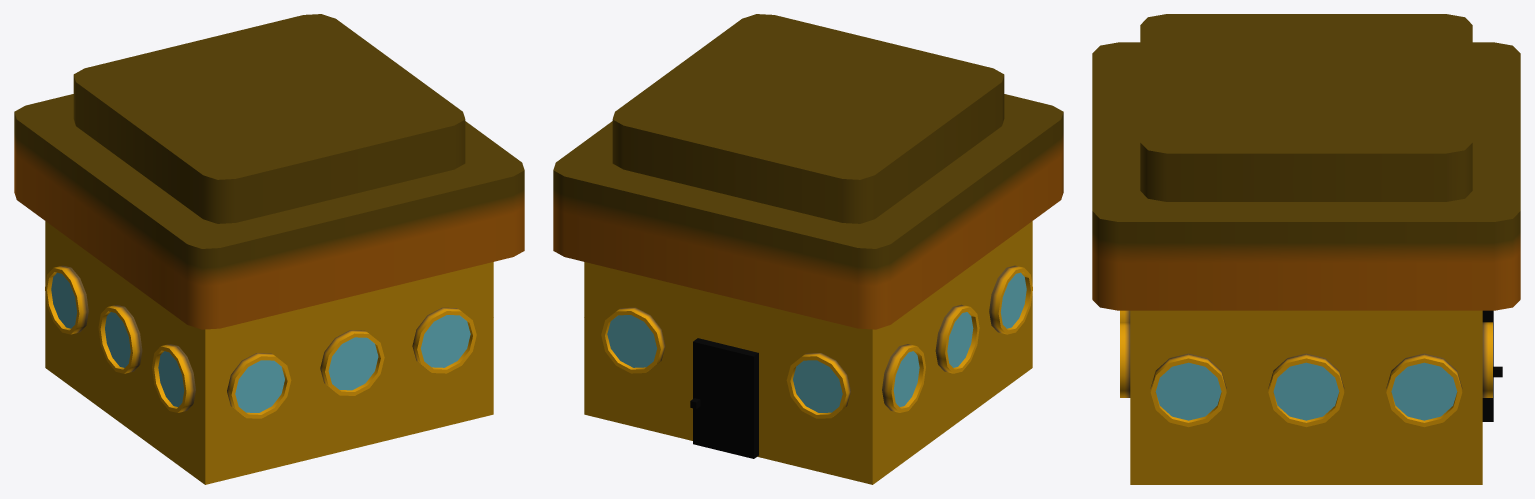
Rendered from House25.fbx.
3 views of the same model, side by side, from view 1: azimuth 30°, elevation 25°; view 2: azimuth 150°, elevation 25°; view 3: azimuth 270°, elevation 25° (orthographic). The views are drawn at different scales.
Visible parts, largest first — view 1: House.025; view 2: House.025; view 3: House.025.
Part boxes in pixels (x1,y1,x2,y2): House.025: (14,14,524,484); House.025: (553,14,1063,484); House.025: (1092,14,1520,484).
Size of the model in its own units: 746 by 626 by 750.
